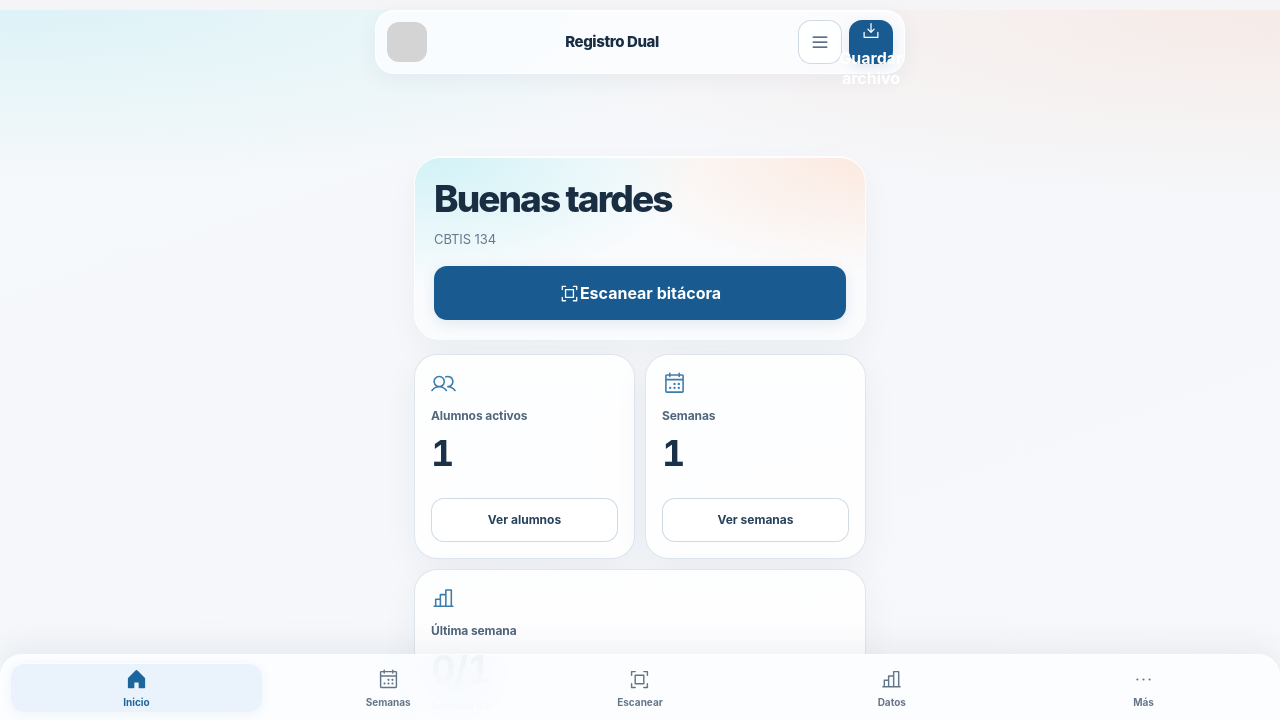
v0.57 experiencia Registro Dual A+E › ofrece pestañas exclusivas de móvil y pantallas Semanas y Más
Expected: the navigation bar named "Navegación móvil" is shown, left=0, top=654, right=1279, bottom=719
Click the button "Semanas": (388, 688) left=263, top=663, right=514, bottom=712
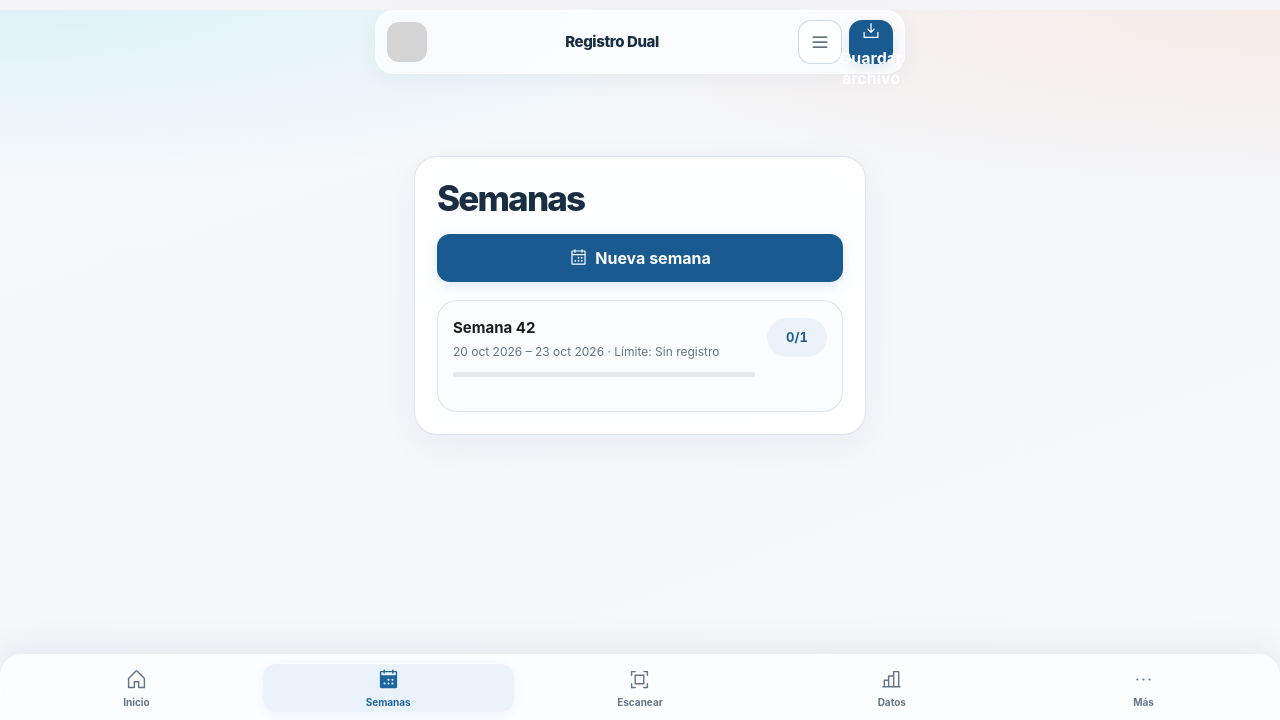
Expected: the text "Semana 42" is shown, left=453, top=318, right=535, bottom=336
Expected: the element named "Listado de semanas" is shown, left=414, top=156, right=866, bottom=434
Click the button "Más": (1144, 688) left=1018, top=663, right=1269, bottom=712
(page scrolled)
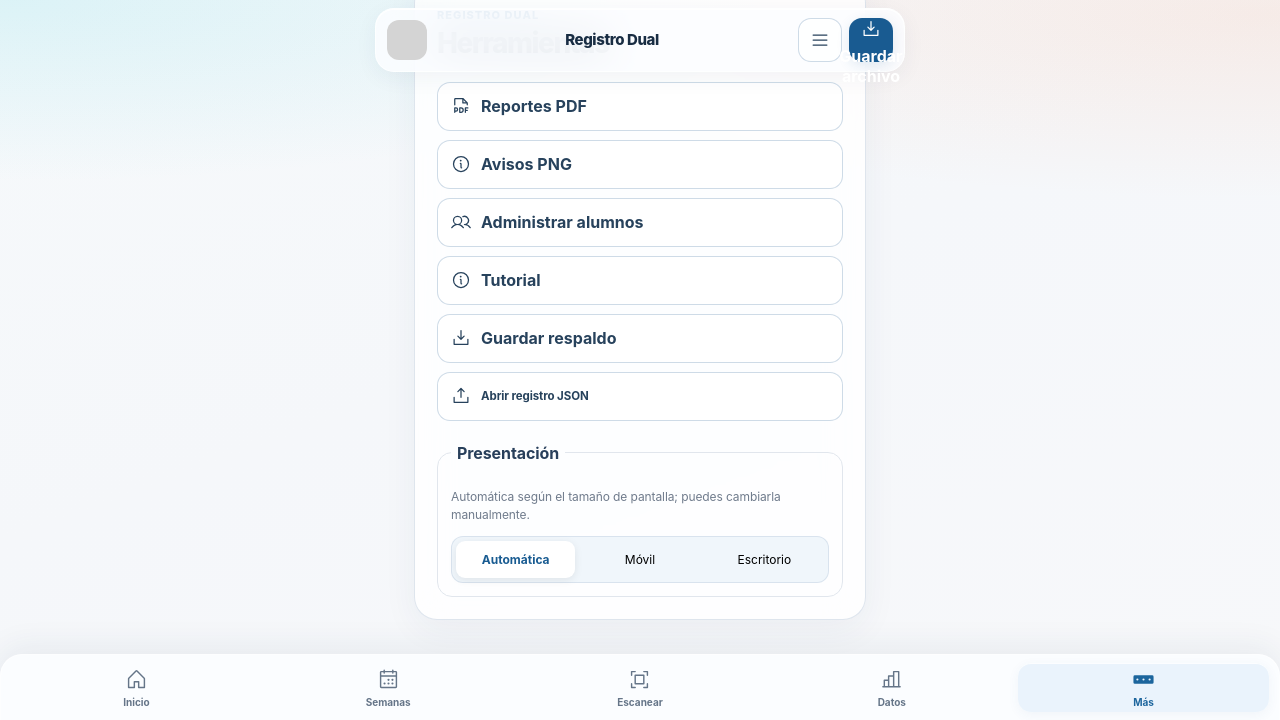
Expected: the element named "Presentación del Registro Dual" is shown, left=451, top=536, right=829, bottom=582
